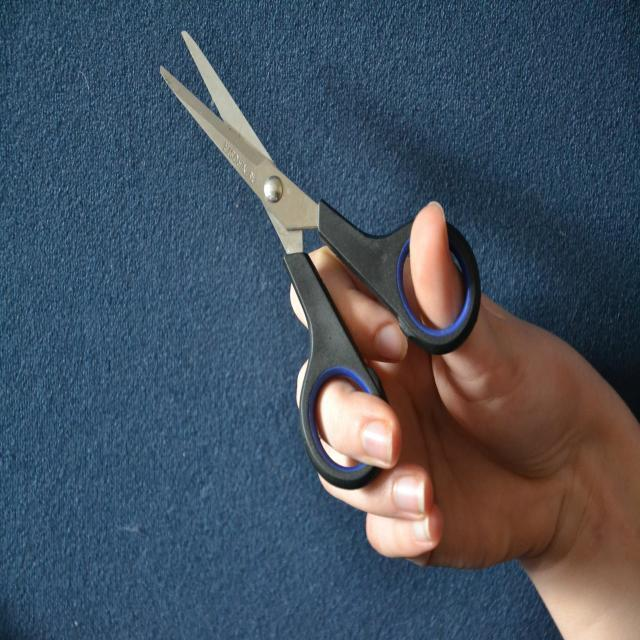scissors: (158, 19, 484, 497)
